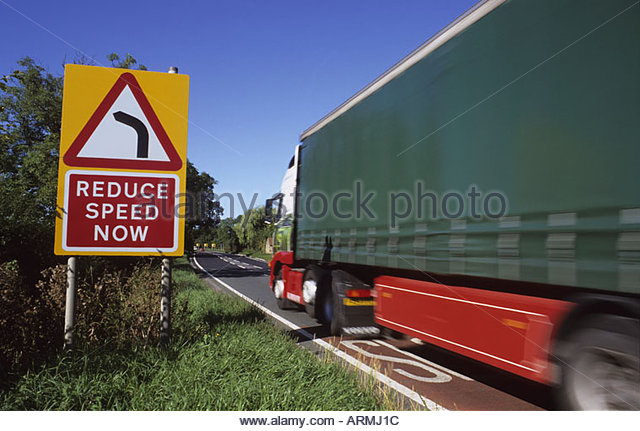Bend_to_left: (60, 71, 184, 174)
